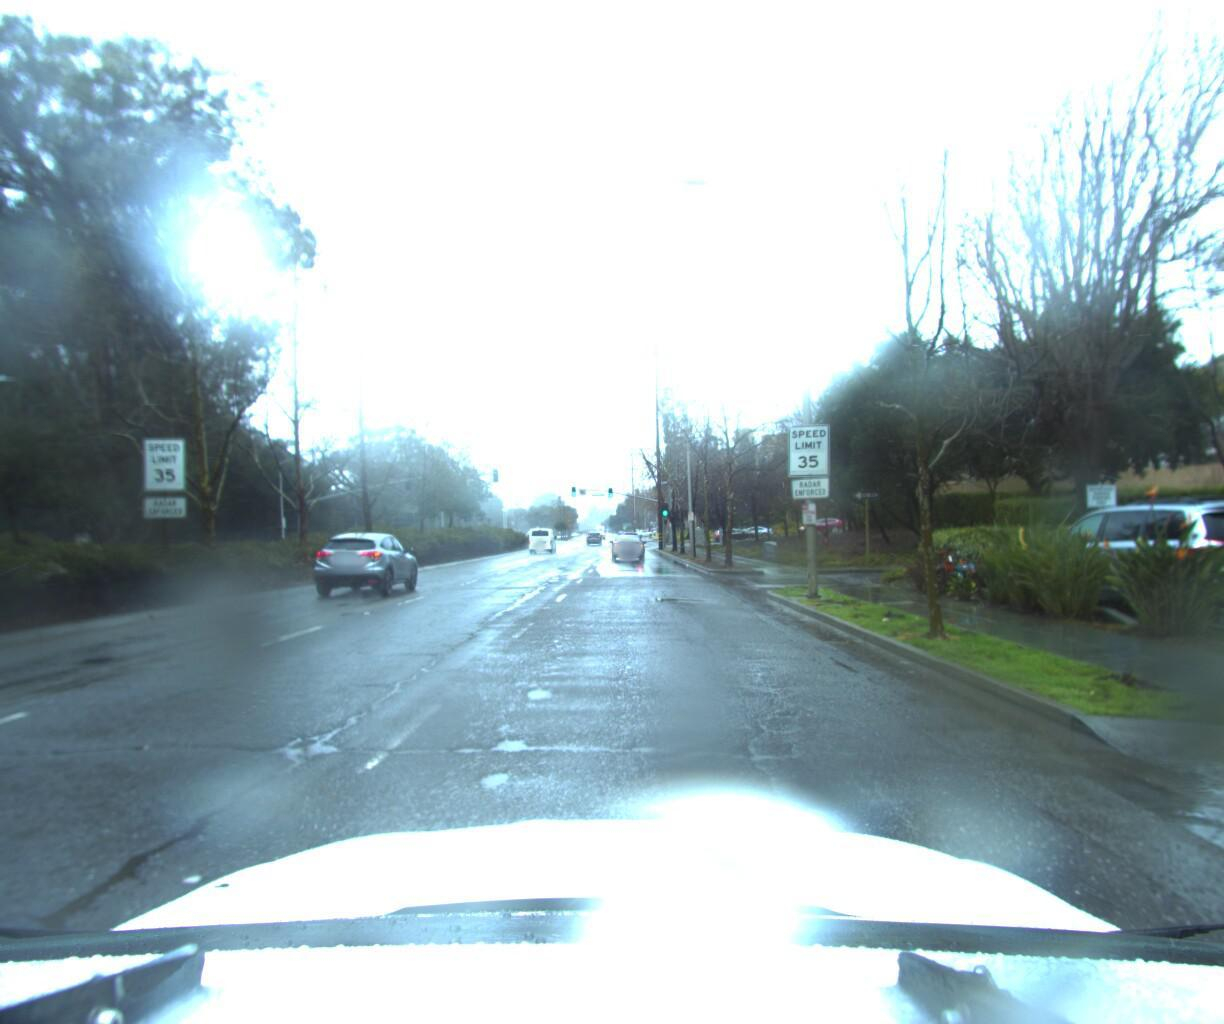car: (1011, 479, 1224, 618), (310, 526, 424, 599), (1194, 483, 1224, 612), (608, 529, 644, 559), (714, 525, 759, 543), (526, 521, 556, 546)
